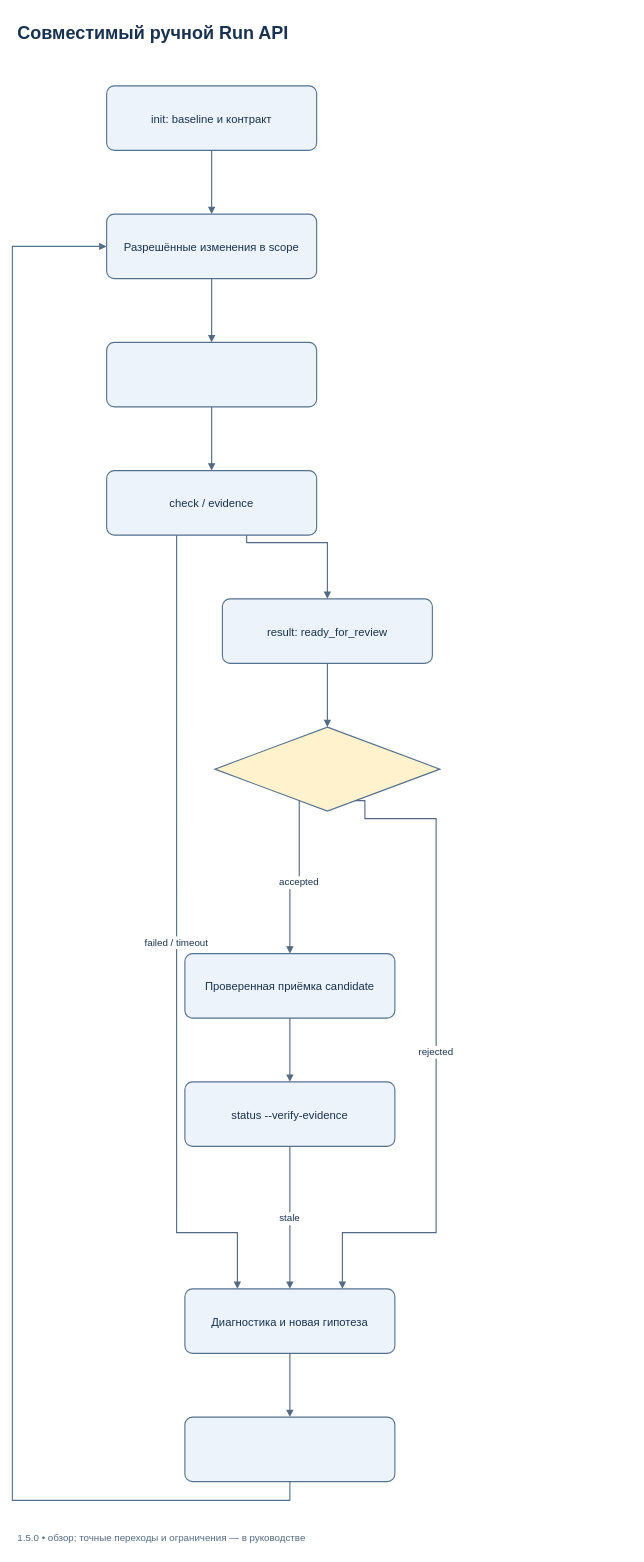
This 644x1562 diagram has some shape labels left out. Here are the shapes that lost their labels. From the top down, the box of each, then its label:
(106, 341, 317, 407): freeze: candidate и toolchains
(214, 726, 440, 811): gate
(184, 1416, 395, 1482): attempt: новый contract/ID
